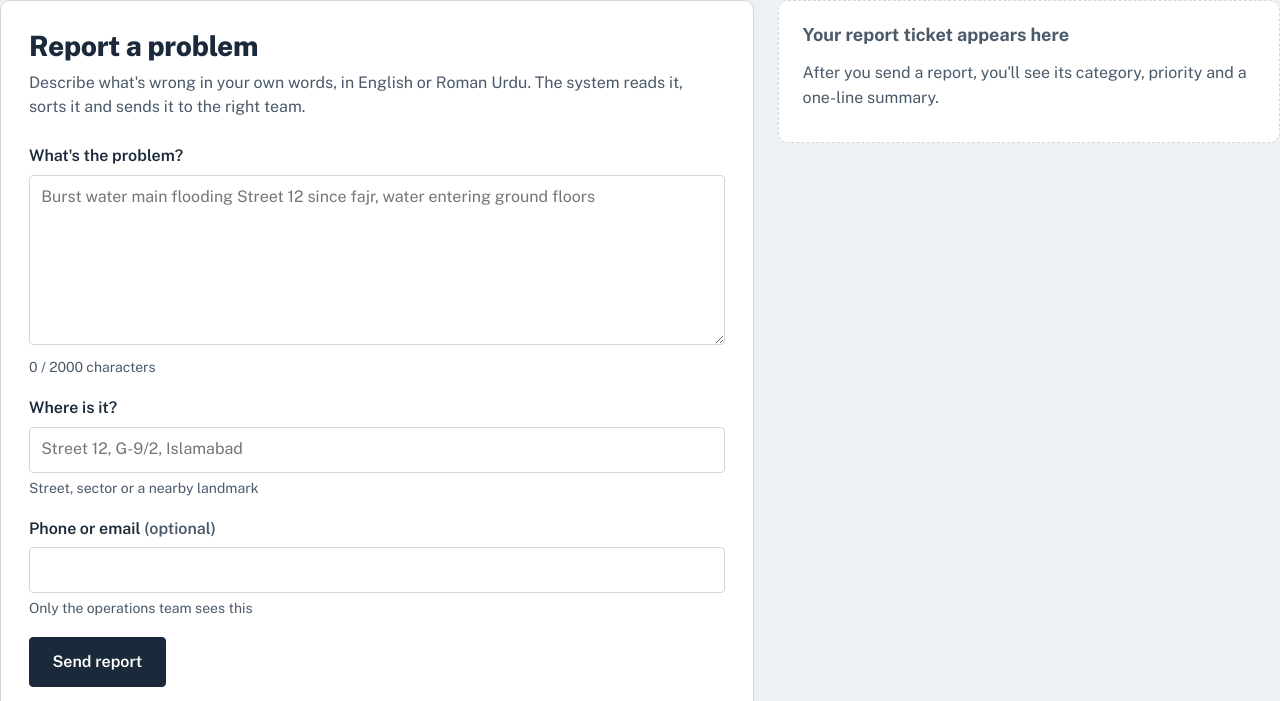
Test: shows the server's field error and rate-limit message
Type "Burst water main flooding Street 12" into the text box labelled "What's the problem?" at point(377, 260), box [29, 175, 725, 345]
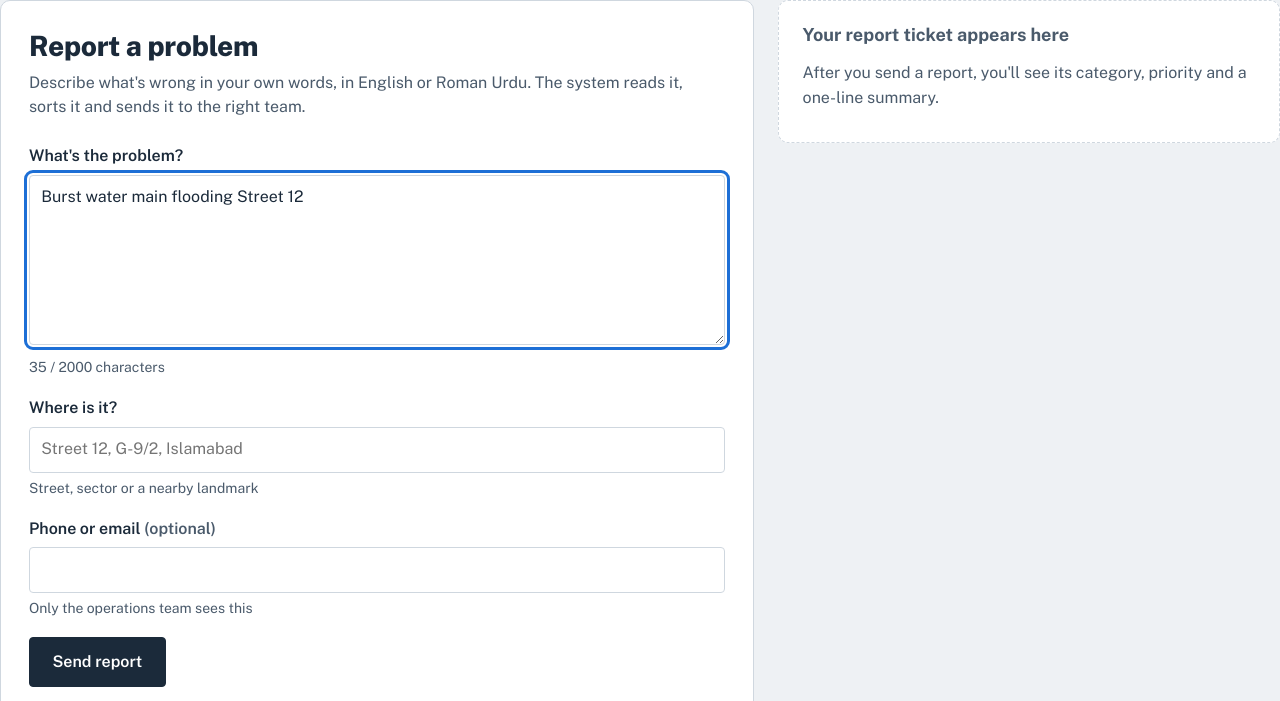
Type "Street 12, G-9/2" into the field labelled "Where is it?" at point(377, 450), box [29, 427, 725, 473]
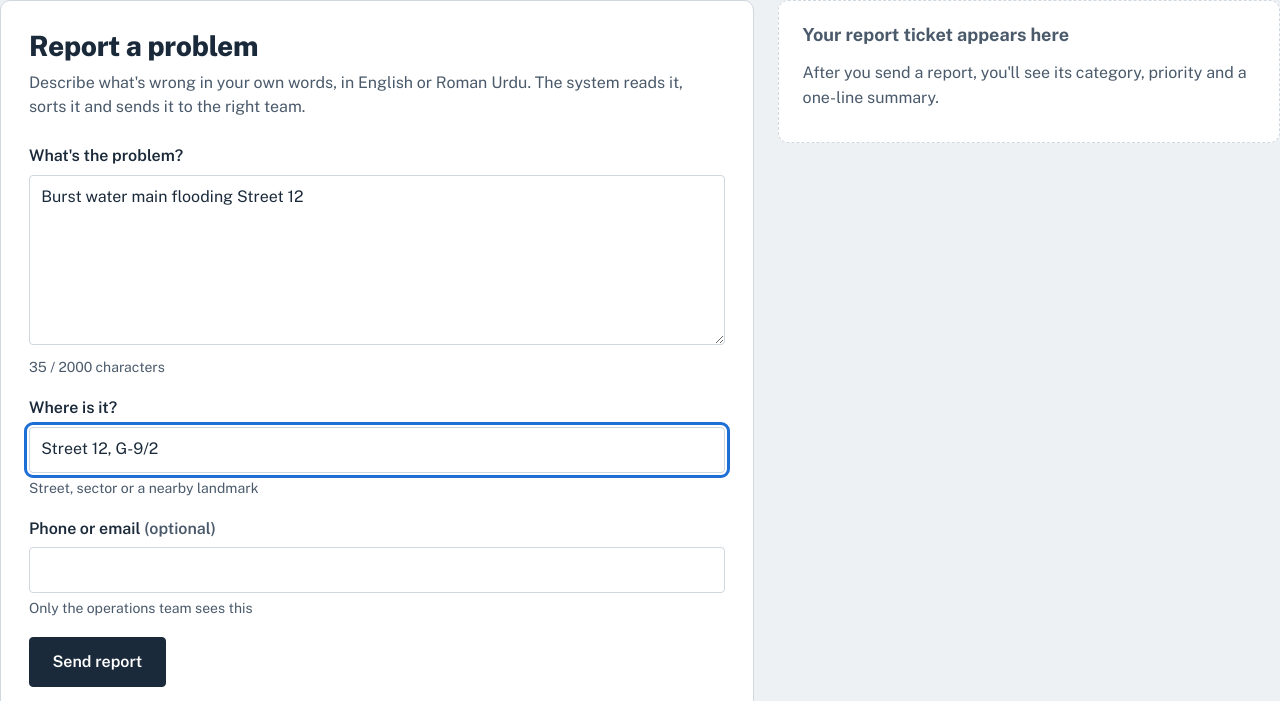
Click the button "Send report" at point(97, 662), box [29, 637, 166, 686]
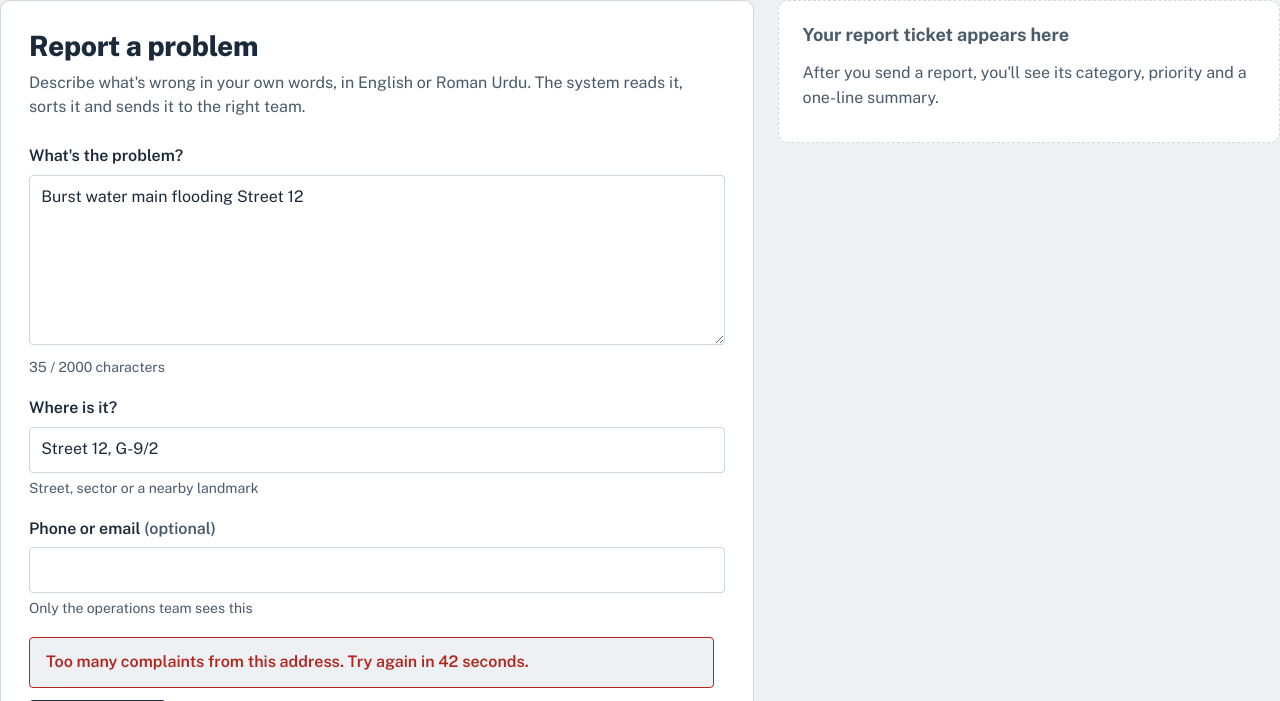
Result: the message reads "Too many complaints from this address. Try again in 42 seconds." at [46, 652, 529, 671]
